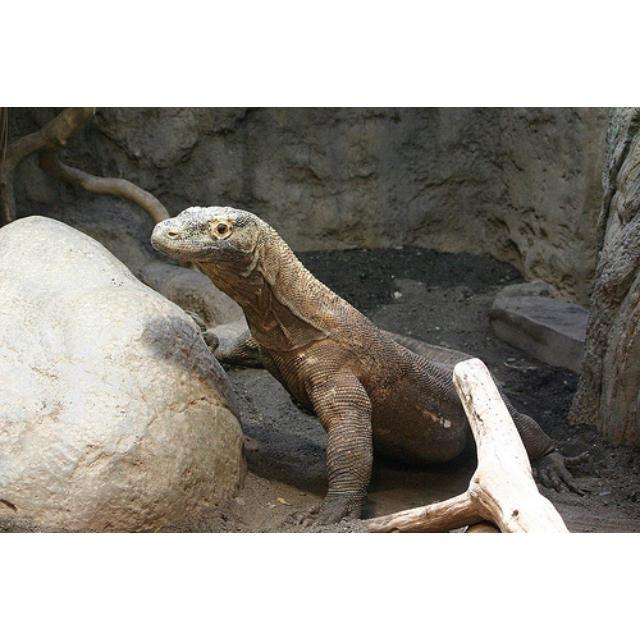KomodoDragon: (149, 204, 591, 531)
